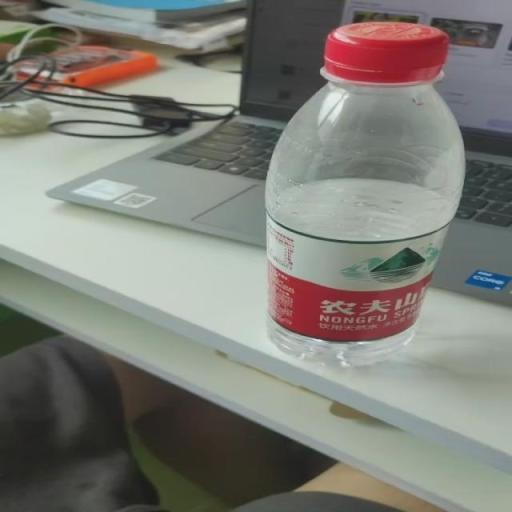plastic: (264, 21, 466, 369)
